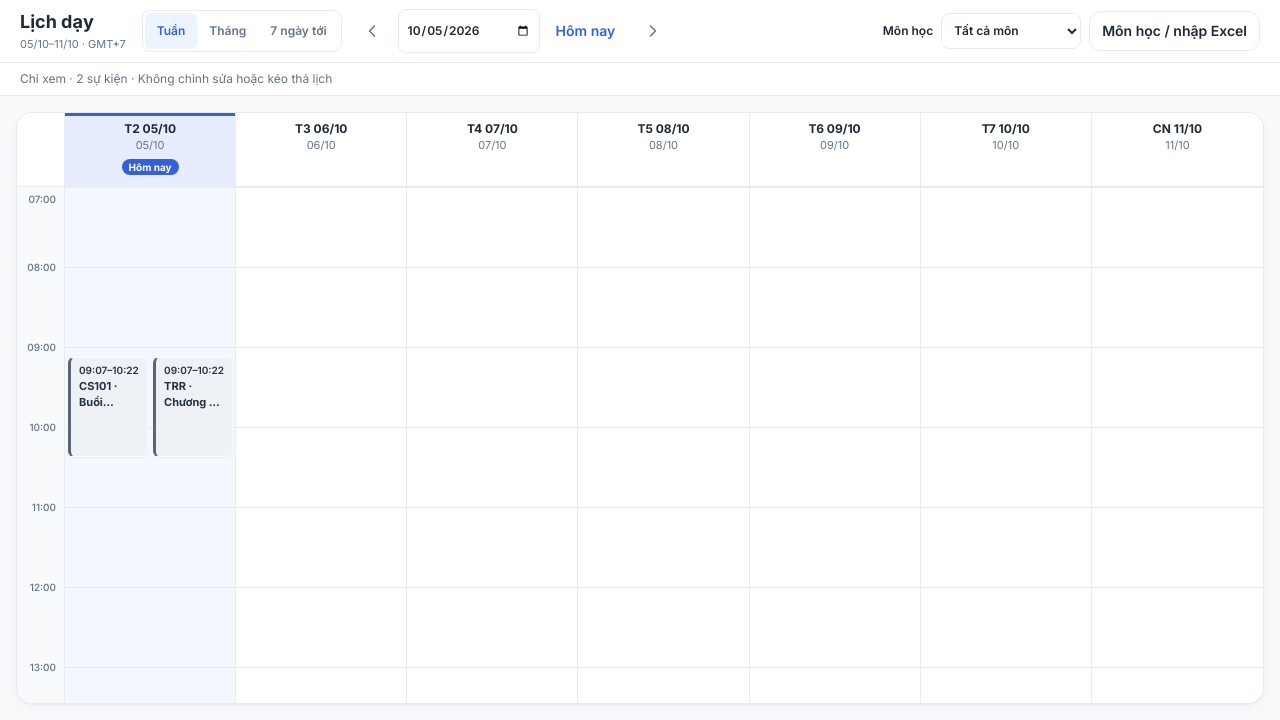
InstructorSchedulePage read-only calendar › supports month, drilling into a week, next-seven-days, and date navigation
This screenshot has width=1280, height=720.
Click the button "Tháng" at (228, 31), box 197,13 -> 258,49
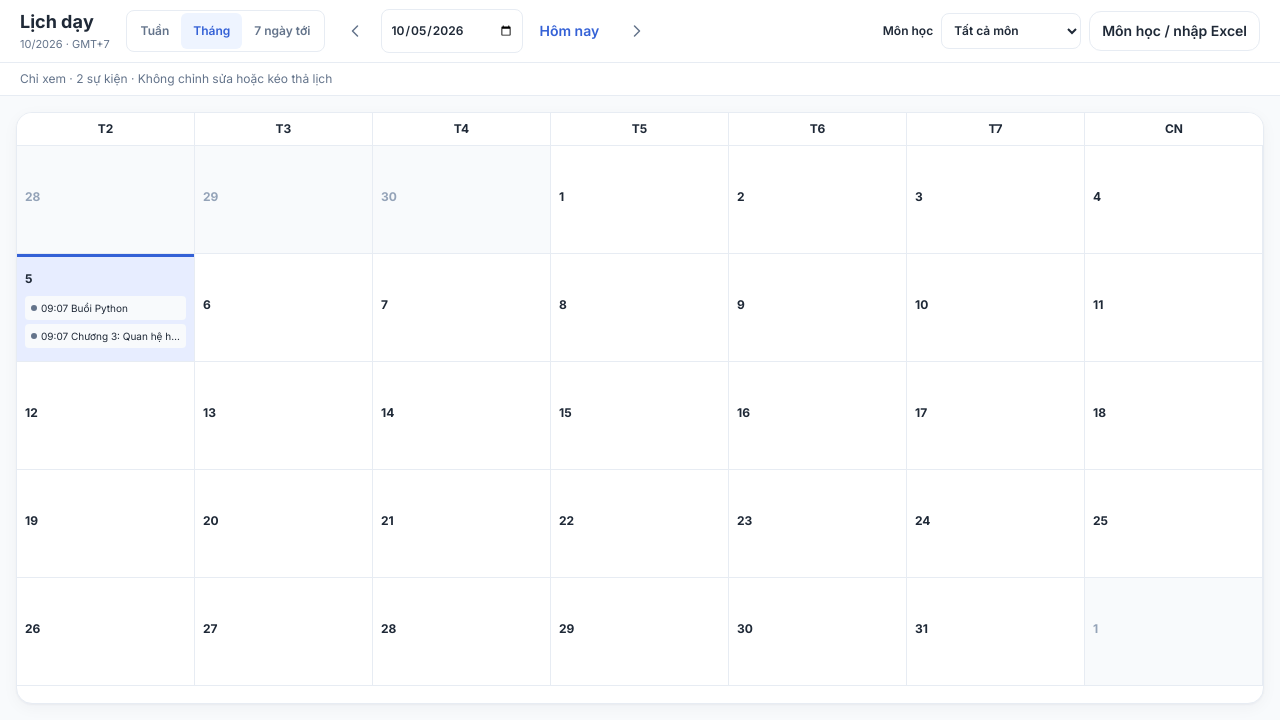
Result: the element named "Tổng quan tháng" is shown
Click the button with aria-label "Thứ Hai 05/10 · 2 mục" at (106, 308), box 17,254 -> 195,362
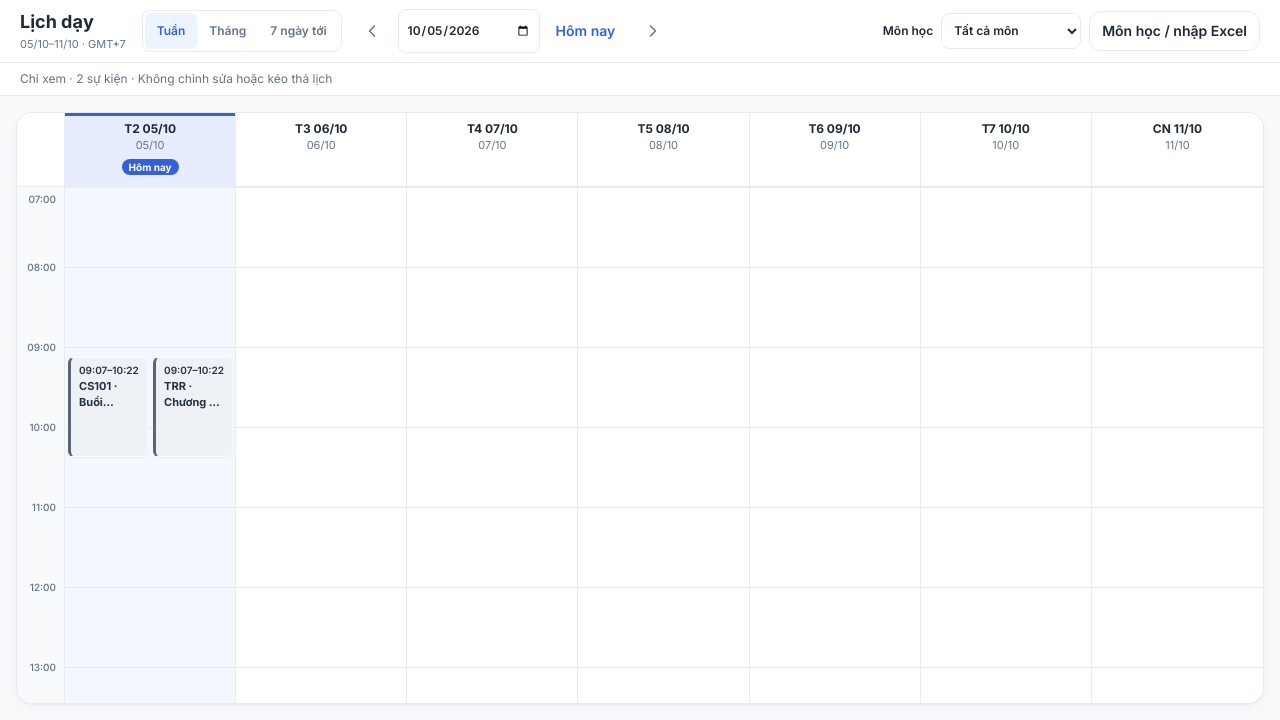
Result: the button "Tuần" is pressed at 145,13 -> 197,49
Type "2026-10-08" into the date field named "Chọn ngày" at (469, 31), box 398,9 -> 540,53
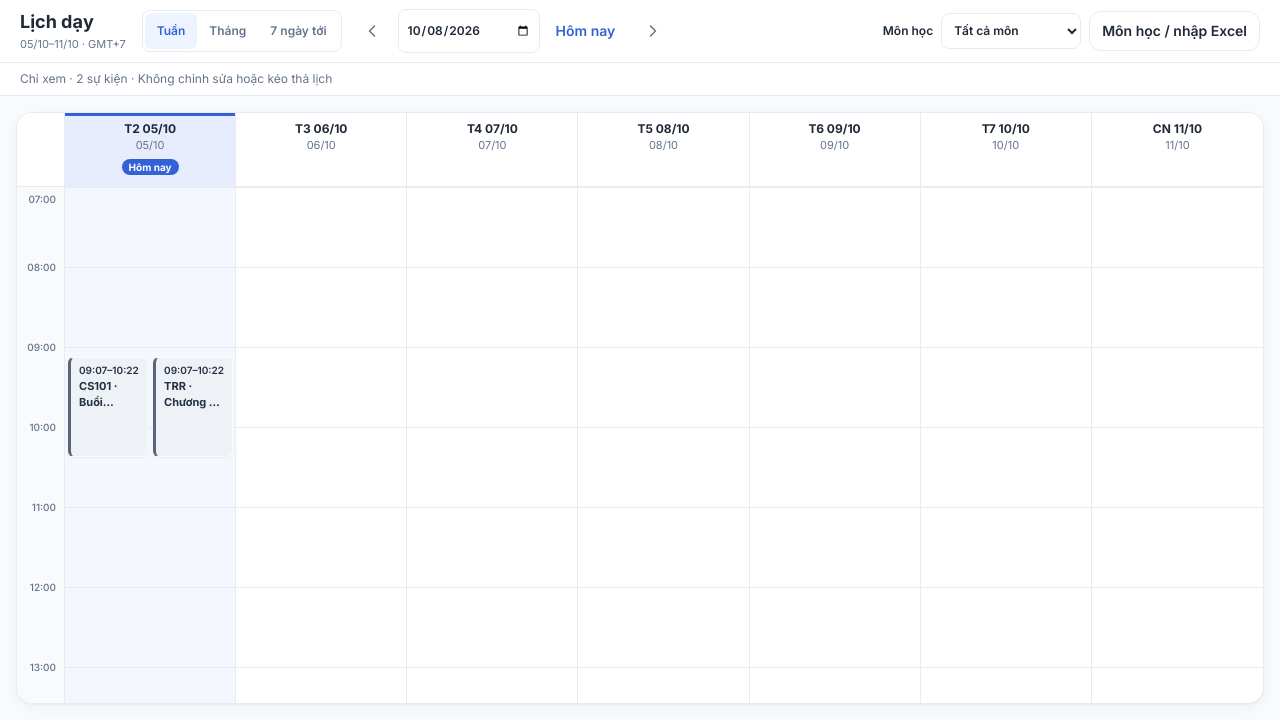
Click the button "7 ngày tới" at (298, 31), box 258,13 -> 339,49
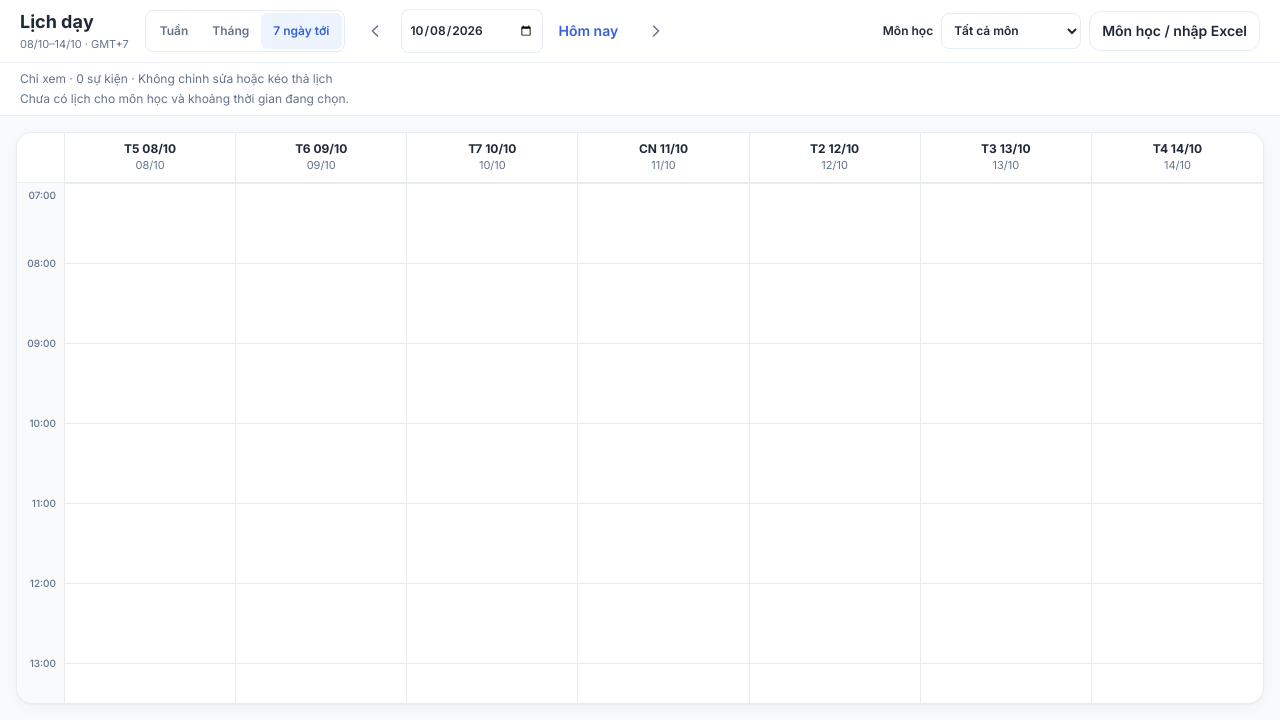
Click the button named "Khoảng sau" at (656, 31), box 634,9 -> 678,53
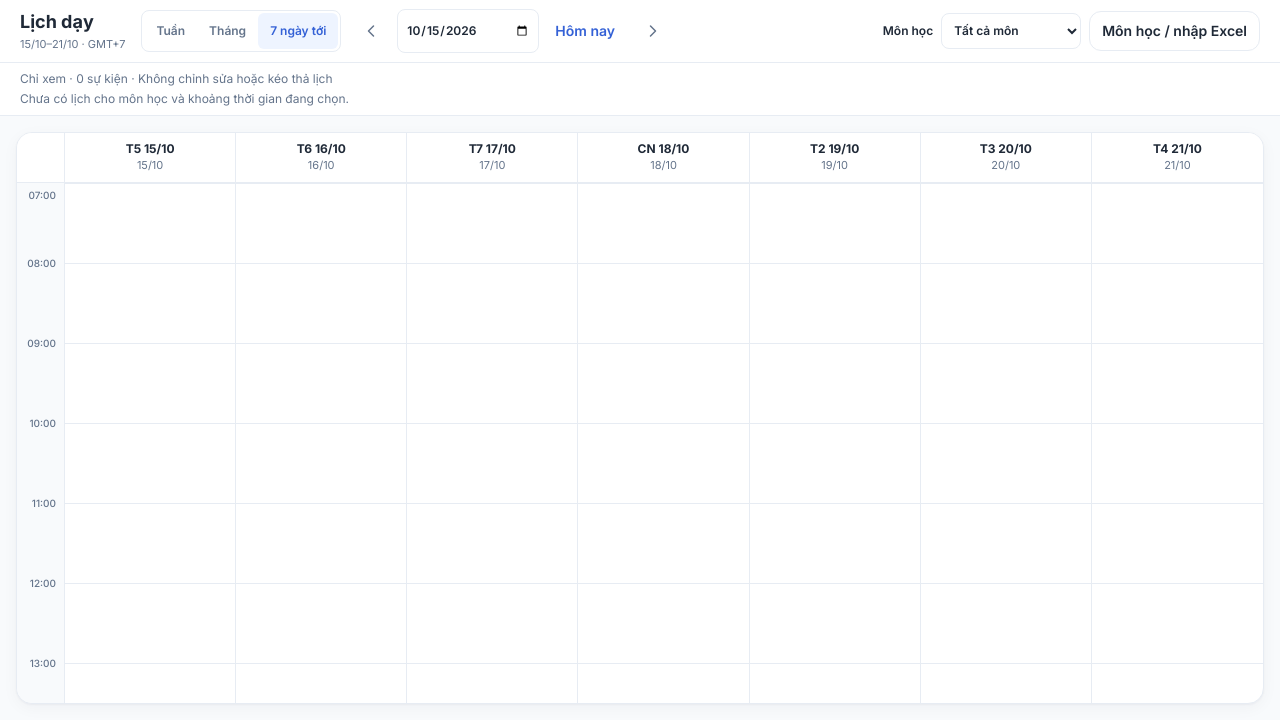
Result: the date field named "Chọn ngày" holds "2026-10-15" at 397,9 -> 539,53
Click the button "Hôm nay" at (585, 31), box 543,9 -> 627,53
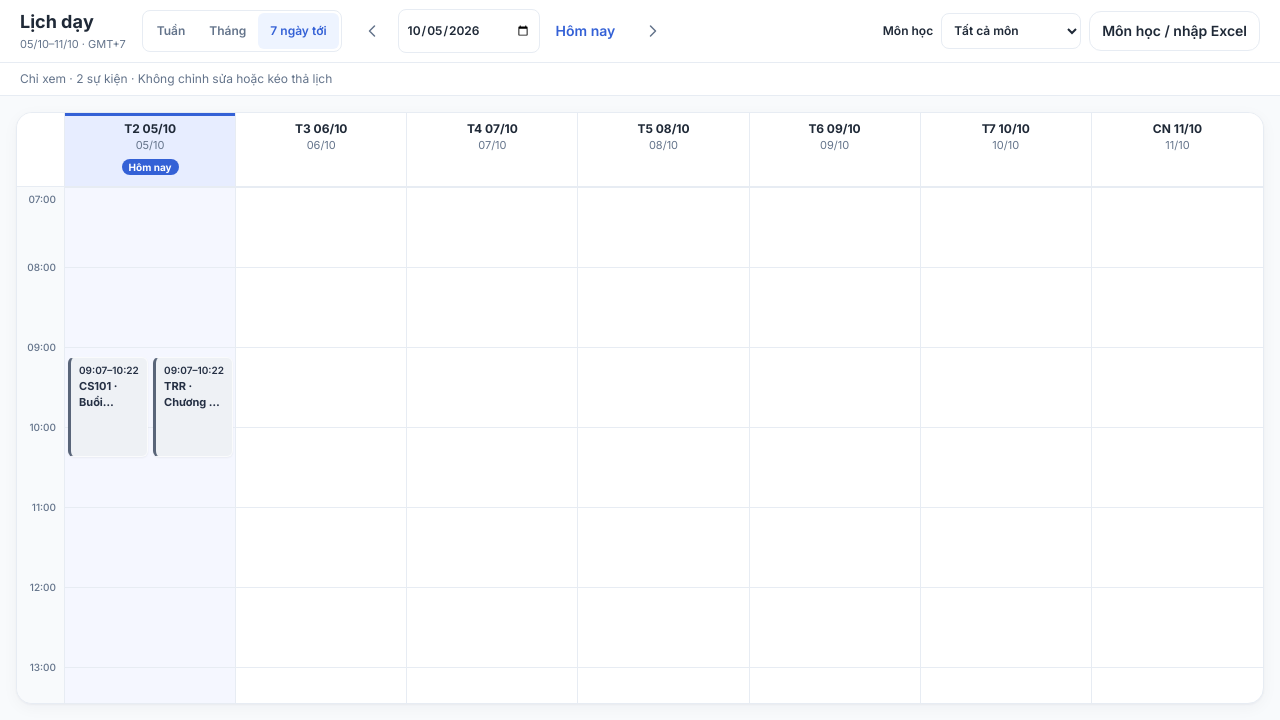
Result: the date field named "Chọn ngày" holds "2026-10-05" at 398,9 -> 540,53
